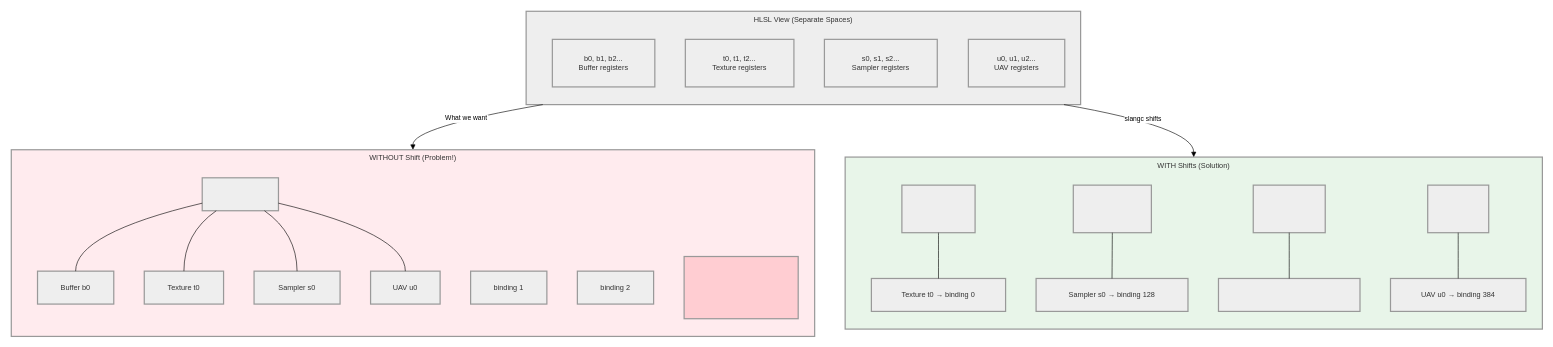
The diagram is 1553 pixels wide and 347 high, and some of its shapes have lost their labels. Here are the shapes that lost their labels. From the top down, the centre of each, then its label:
[240,194]: binding 0
[938,208]: 0-127 Textures
[1112,208]: 128-255 Samplers
[1289,208]: 256-511 Buffers
[1458,208]: 384+ UAVs
[740,287]: 4 resources trying to use binding 0! Vulkan ERROR
[1289,295]: Buffer b0 → binding 256
